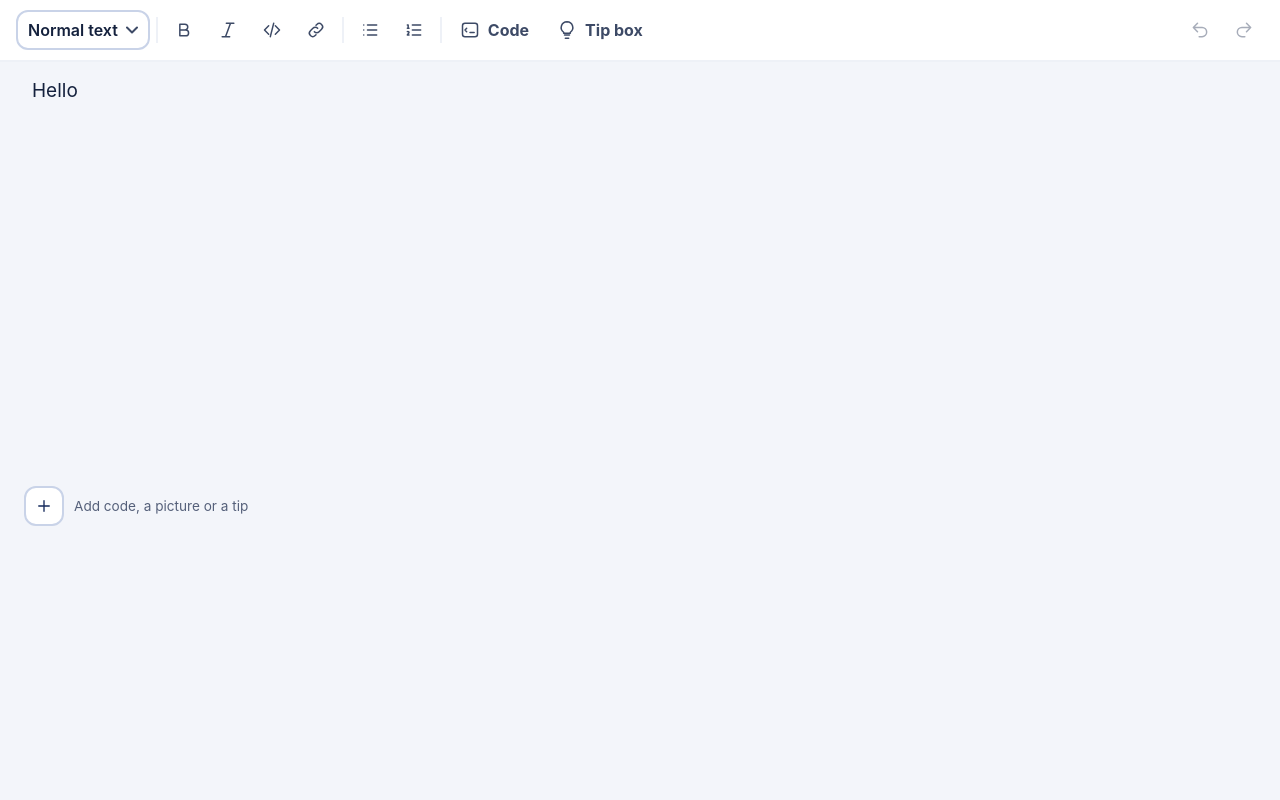
NoteEditor › adds a link to the selected text, and refuses addresses that aren’t web or LMS pages
Press a in the field named "Lesson note", box [32,79,78,102]
Click the button named "Link (Ctrl+K)". click: [316, 30]
box: [296,10,336,50]
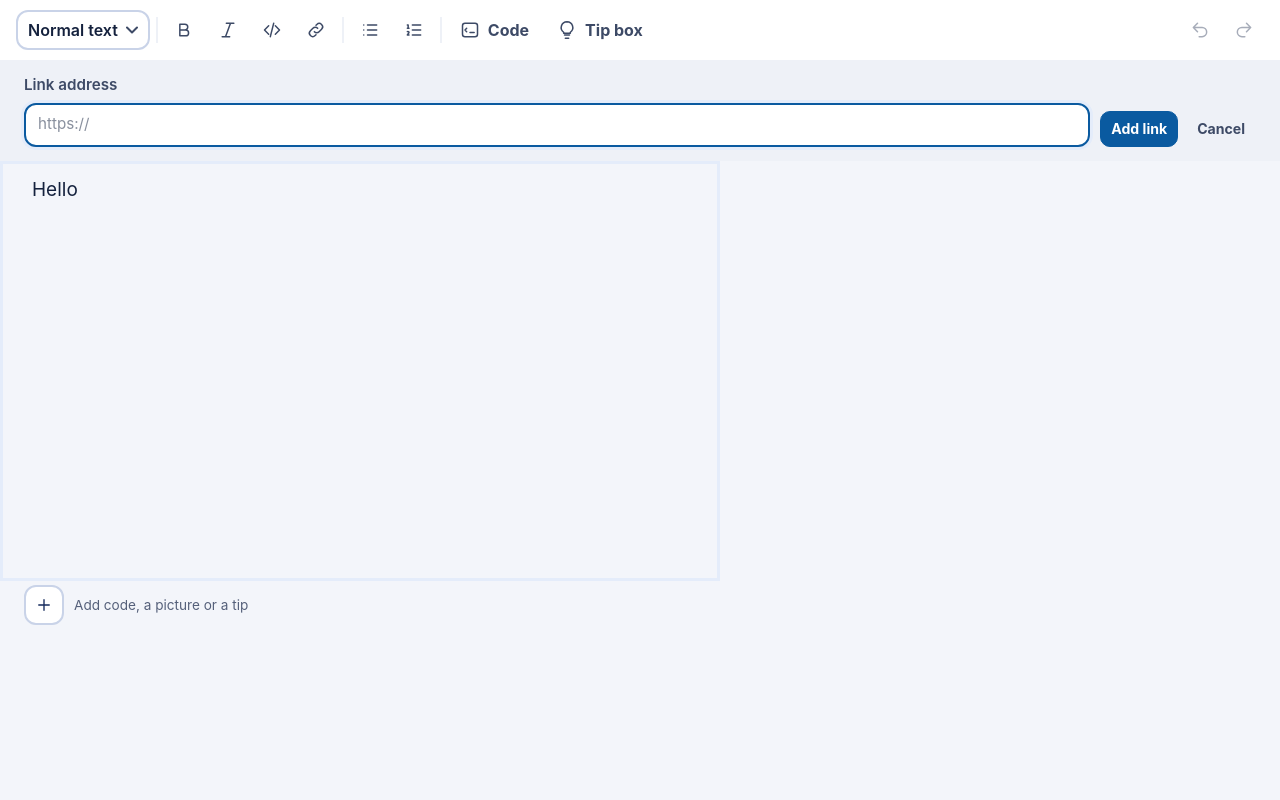
Type "javascript:alert(1)" into the field labelled "Link address". click: [557, 125]
box: [24,103,1090,147]
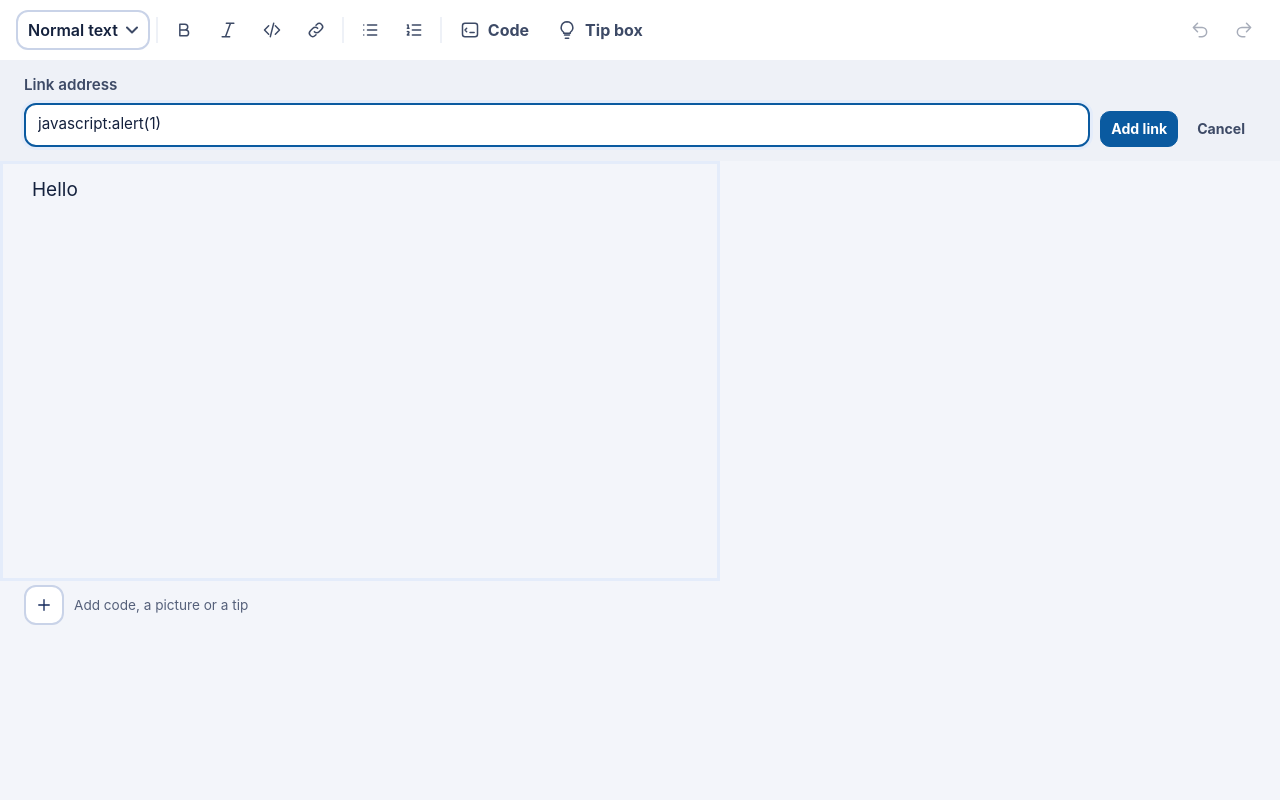
Click the button "Add link". click: [1139, 129]
box: [1100,111,1178,147]
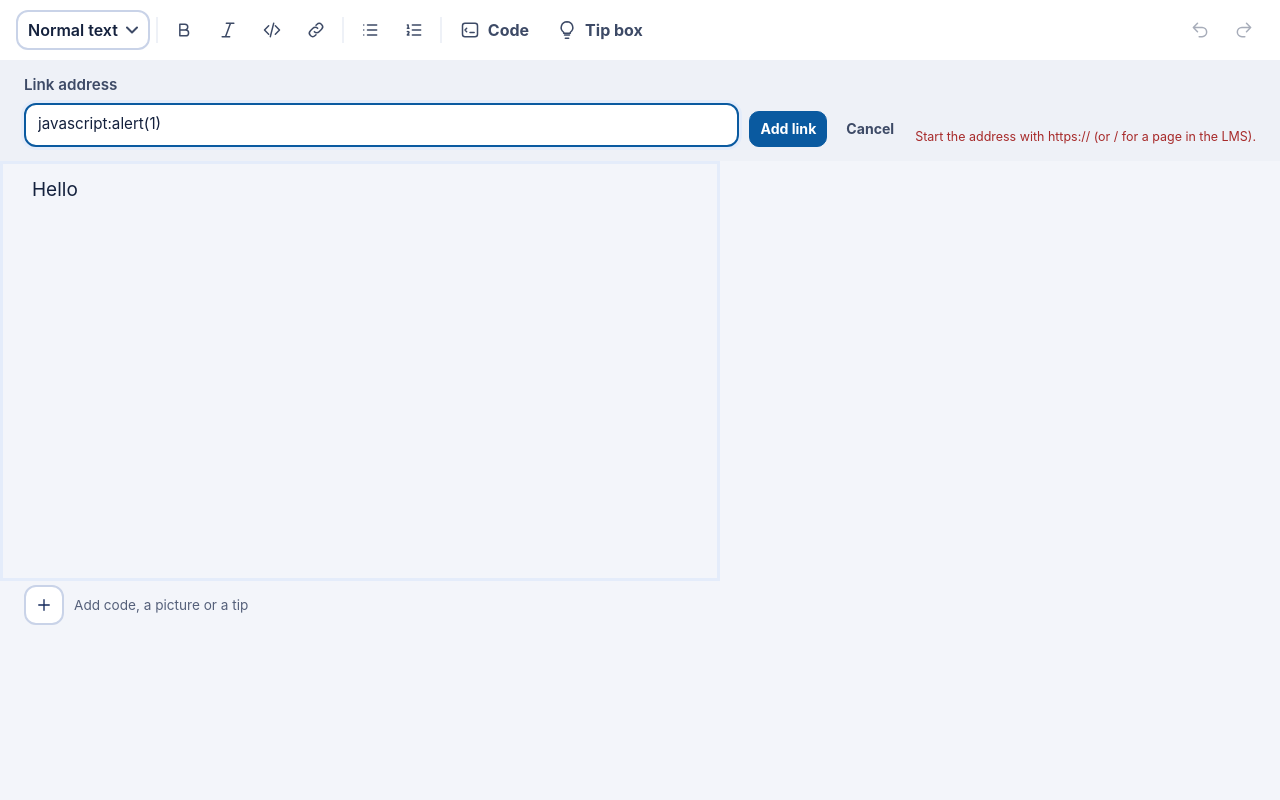
Expected: the text box labelled "Hello" is shown, [32,178,78,201]
Now the message shows "https://", box [915,129,1256,144]
Replace the text in the field labelled "Link address" with "https://docs.python.org/3/". click: [382, 125]
box: [24,103,740,147]
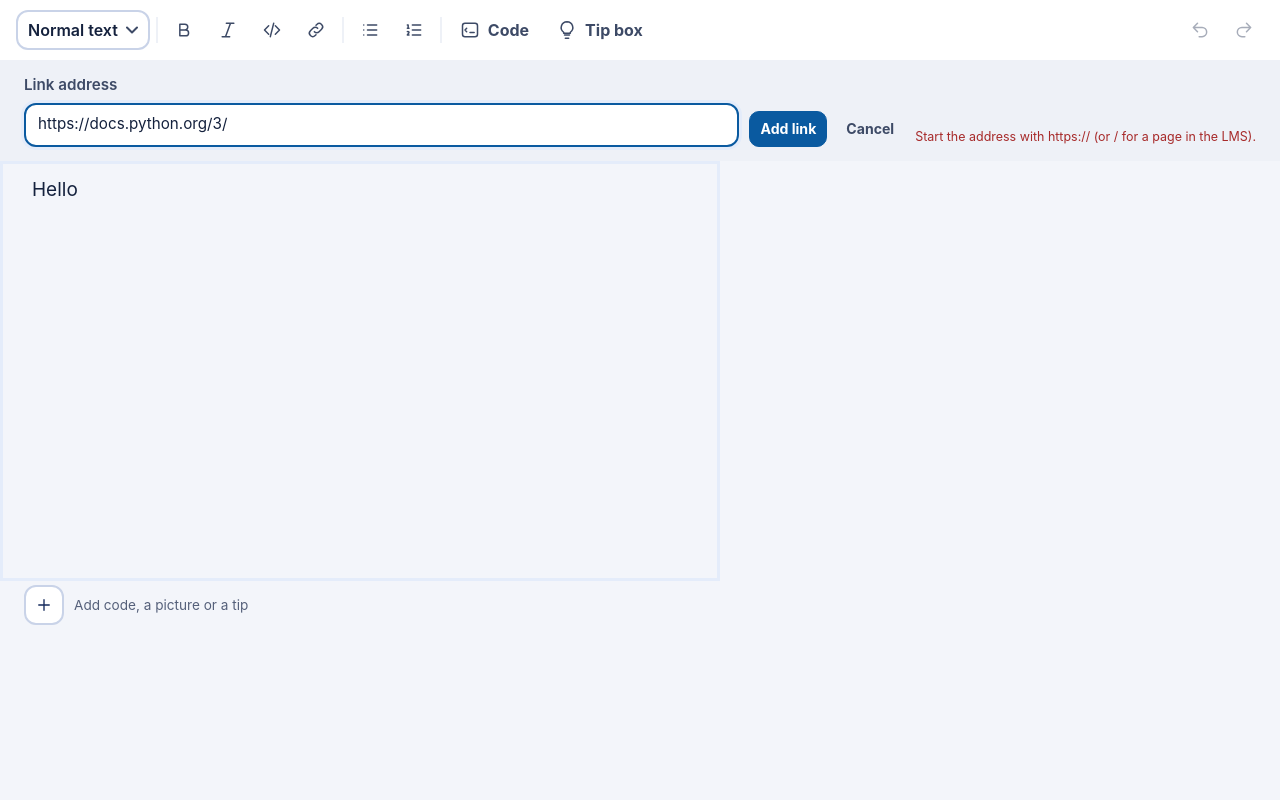
Press Enter in the field labelled "Link address", box [24,103,740,147]
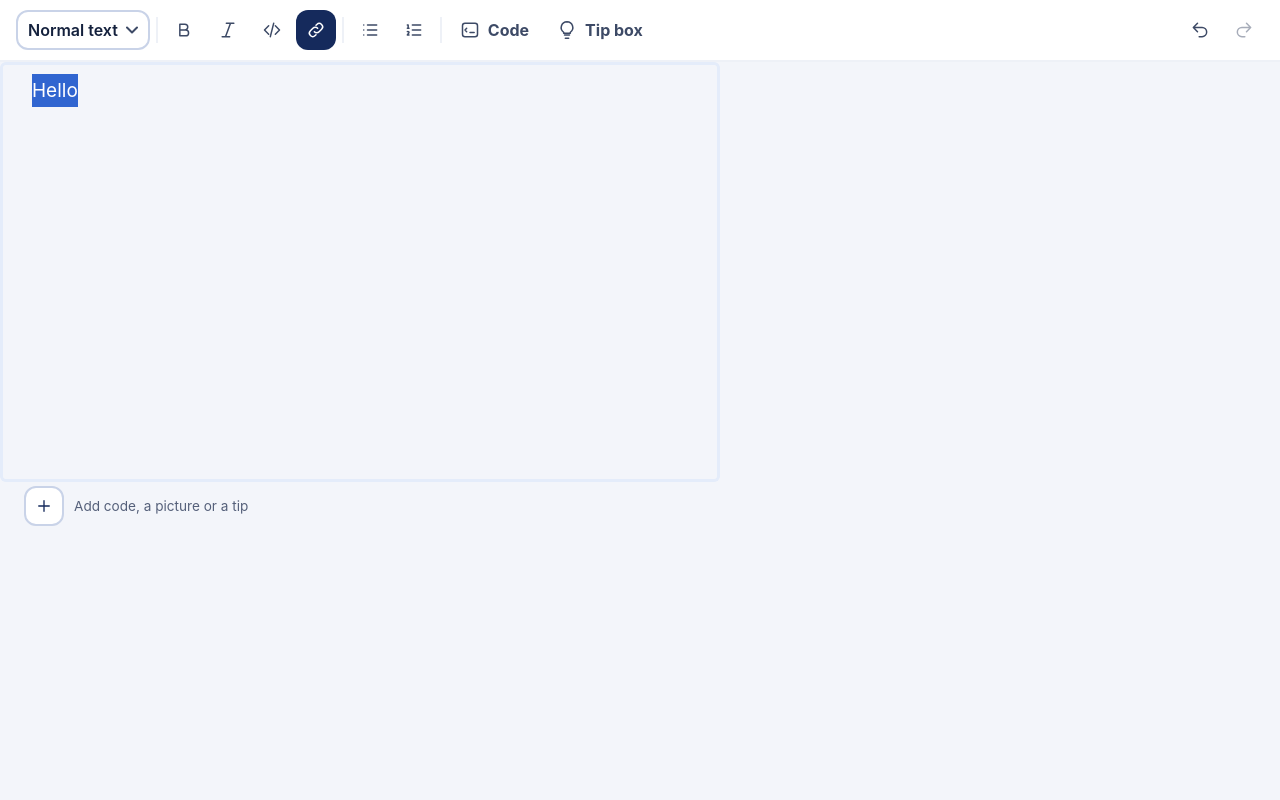
Now the label "Link address" is gone
